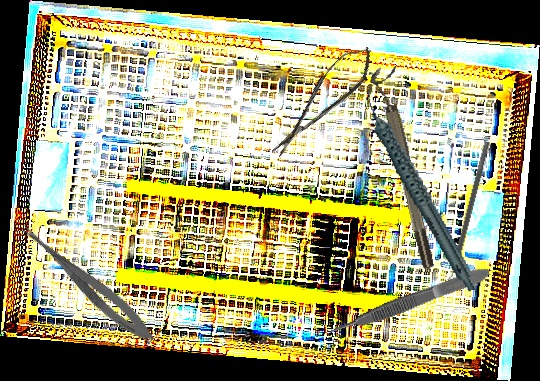Fixation Ring: (367, 64, 439, 273)
Handpiece: (361, 73, 478, 305)
Micro Scissor: (11, 218, 161, 350), (260, 38, 383, 164)
Spatula Surgical: (443, 139, 491, 283)
Tissue Forceps: (326, 264, 492, 339)
